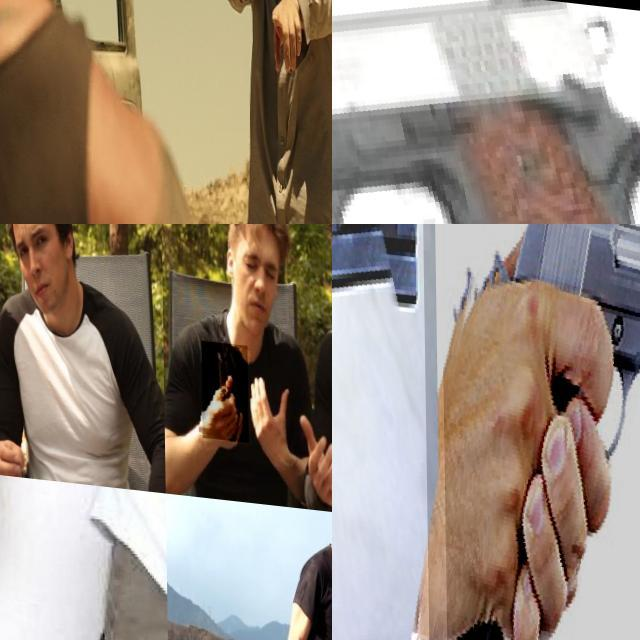-: (0, 507, 41, 640), (201, 332, 248, 433), (0, 310, 21, 417)
gun-knife-thesis - v11 Yolov5 augmented: (421, 224, 640, 640), (332, 0, 640, 224), (332, 224, 488, 640), (237, 0, 266, 53)
